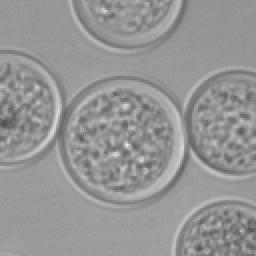picoshell: (56, 76, 186, 206), (184, 66, 254, 178), (0, 46, 60, 168), (68, 0, 184, 52), (172, 196, 254, 254)
